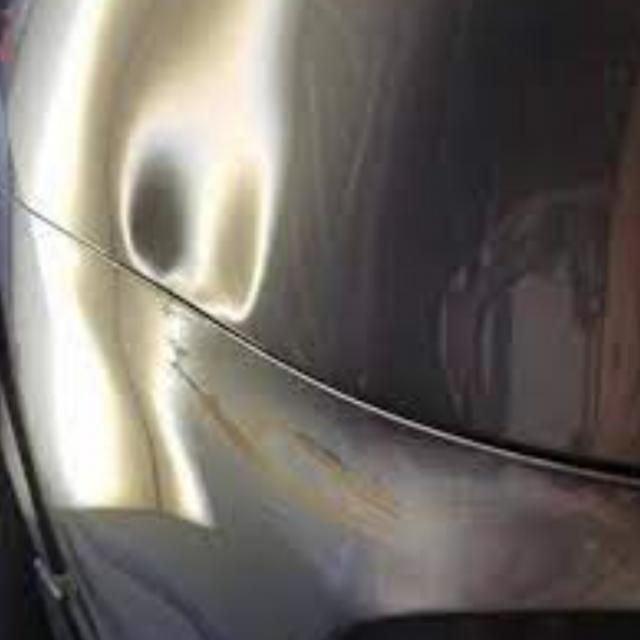dents: (68, 1, 298, 341)
